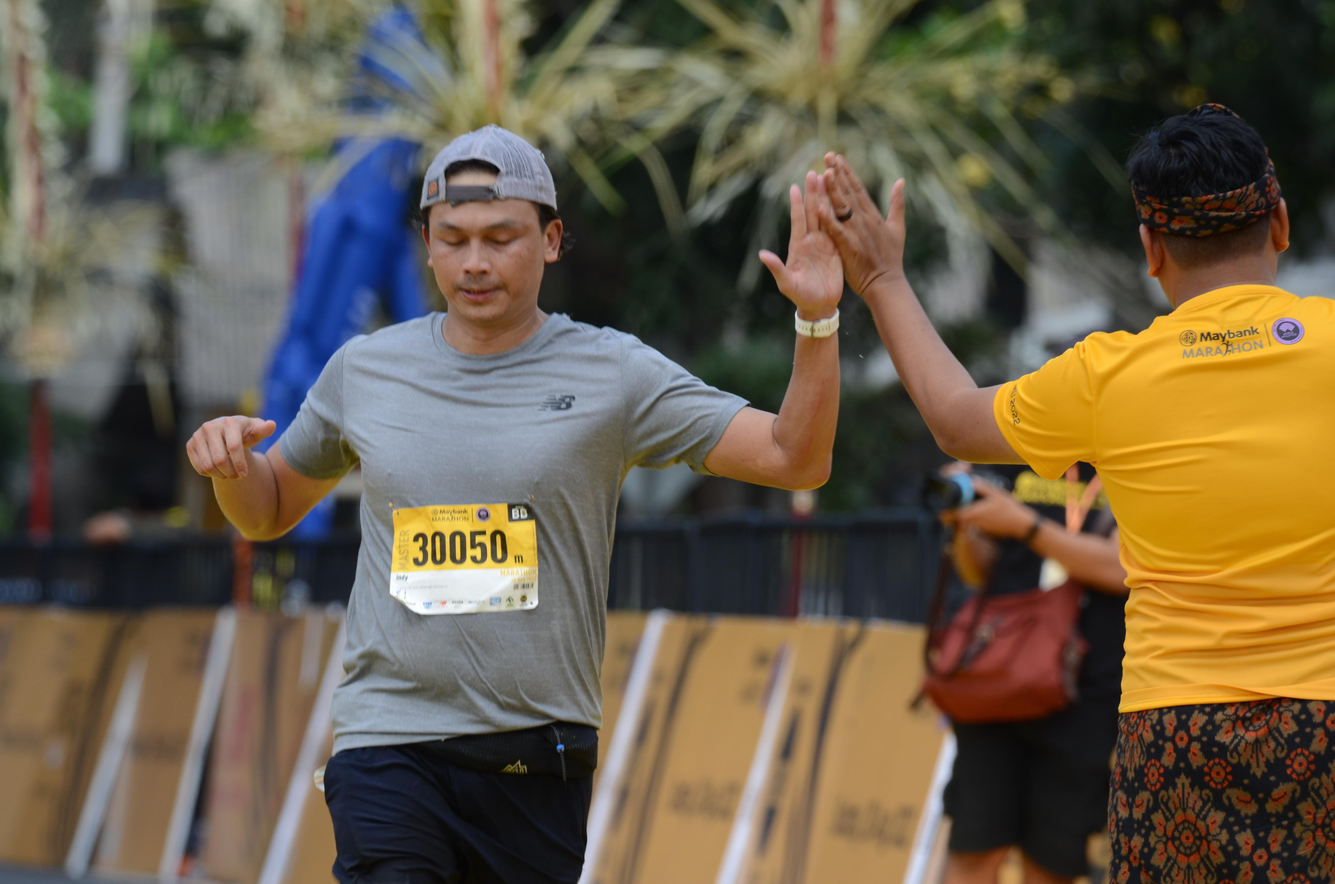bib: (392, 505, 538, 615)
